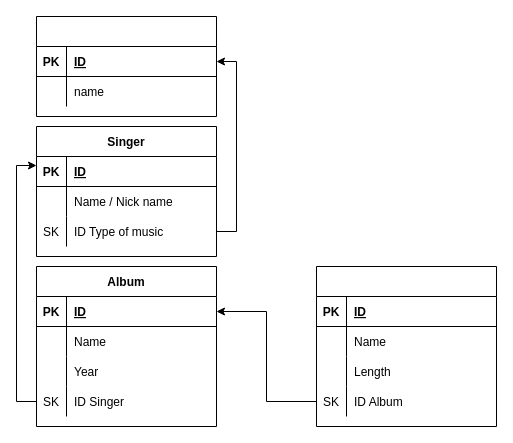
Image size: 513x443. Some labels were removed from this diagram. Here are the shapes that lost their labels. From the top down, the box of each, then its label:
(36, 16, 216, 116): Type of music
(316, 266, 496, 426): Track
